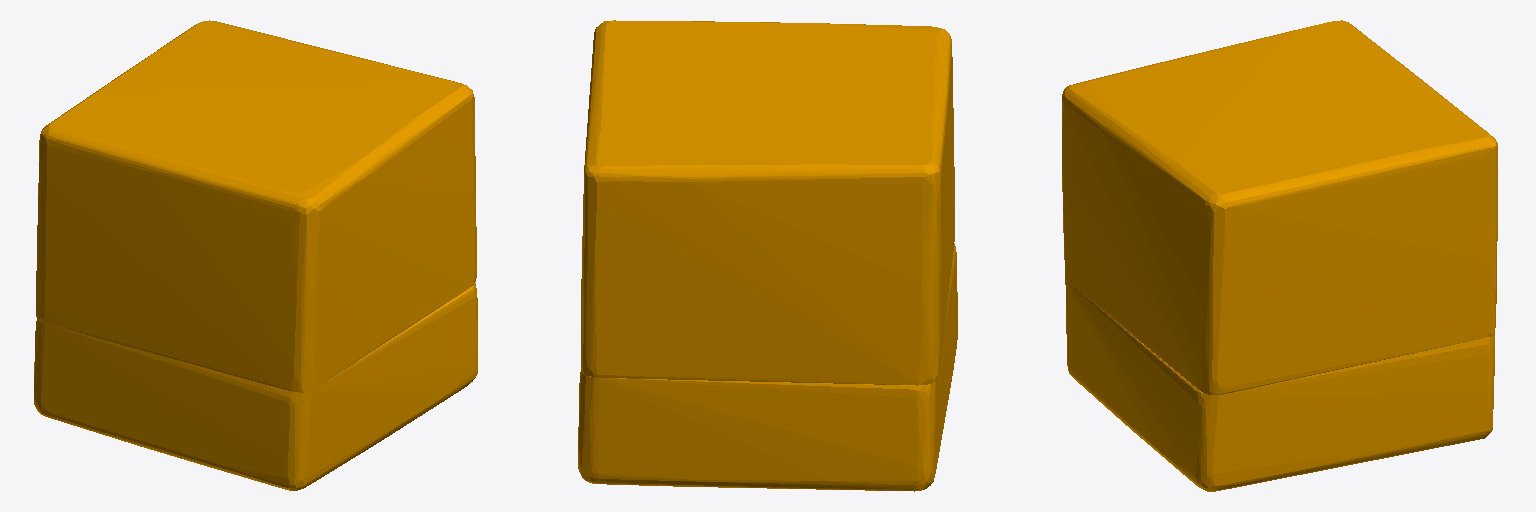
The robot description file, URDF, robot "077_rubiks_cube":
<?xml version="1.0" encoding="UTF-8"?>
<robot name="077_rubiks_cube">
	<link name="base">
		<collision>
			<geometry>
				<mesh filename="..\vhacd\077_rubiks_cube_vhacd.obj" scale="1.0 1.0 1.0"/>
			</geometry>
			<origin xyz="0 0 0"/>
			<contact_coefficients mu="0.24" />
		</collision>
		<visual>
			<geometry>
				<mesh filename="..\vhacd\077_rubiks_cube_vhacd.obj" scale="1.0 1.0 1.0"/>
			</geometry>
			<origin xyz="0 0 0"/>
		</visual>
		<inertial>
			<mass value="0"/>
			<inertia ixx="0.0" ixy="0.0" ixz="-0.0" iyy="0.0" iyz="0.0" izz="0.0" />
			<origin xyz="-0.016219049836825747 -0.0004852905584170915 0.028589928162717444"/>
		</inertial>
	</link>
</robot>

--- What the picture shows (computed from the rendered views, not written in the file) ---
Views: 3 orthographic renders of the robot side by side, from view 1: azimuth 30°, elevation 25°; view 2: azimuth 150°, elevation 25°; view 3: azimuth 270°, elevation 25°.
Model 077_rubiks_cube with 1 links and 0 joints (none), rooted at base, posed every joint at zero.
Links seen in each view (by area): view 1: base; view 2: base; view 3: base.
Boxes of the visible links, x1,y1,x2,y2 form: base: (34,20,477,490); base: (578,20,957,491); base: (1062,20,1497,491).
Bounding box of the posed robot: 0.0761 × 0.0764 × 0.0581 m (x, y, z).
1 mesh visuals loaded from 1 distinct referenced files (1 OBJ).